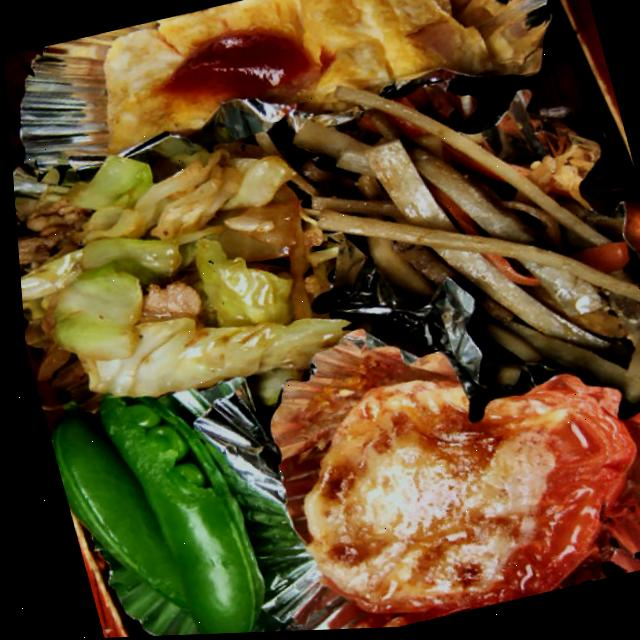蔬菜料理: (8, 126, 340, 440)
